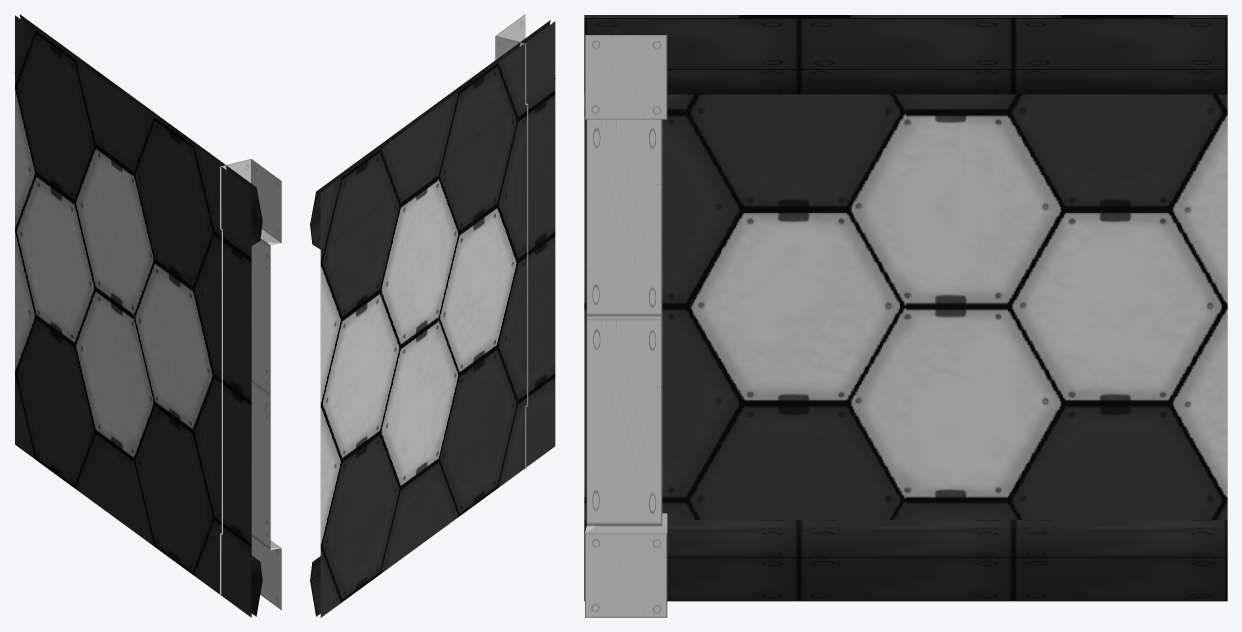
The model's file is Wall_ULeft.fbx.
3 views of the same model, side by side, from view 1: azimuth 30°, elevation 25°; view 2: azimuth 150°, elevation 25°; view 3: azimuth 270°, elevation 25° (orthographic). The views are drawn at different scales.
Visible parts, largest first — view 1: pPlane147; view 2: pPlane147; view 3: pPlane147.
Part boxes in pixels (x1=…): pPlane147: x1=15, y1=14, x2=281, y2=617; pPlane147: x1=310, y1=14, x2=555, y2=617; pPlane147: x1=584, y1=15, x2=1227, y2=617.
Bounding box in the file's own units: 0.1534 × 2 × 2.
